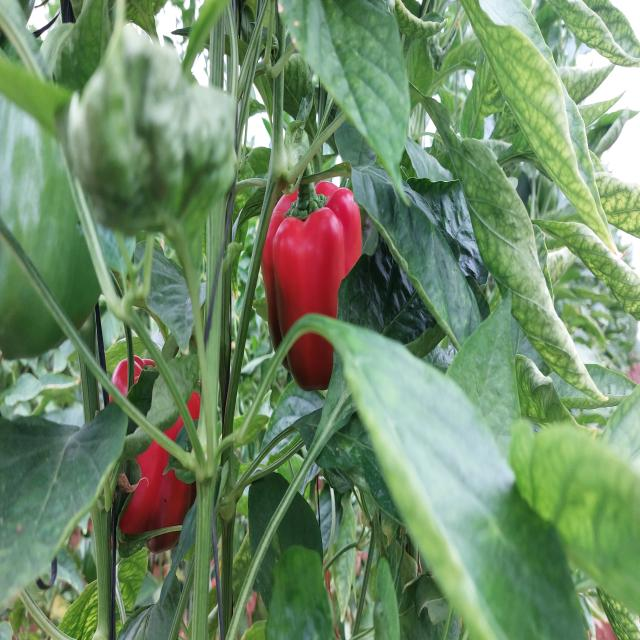Red-Ready-to-Harvest: (110, 334, 218, 541), (263, 189, 368, 393)
